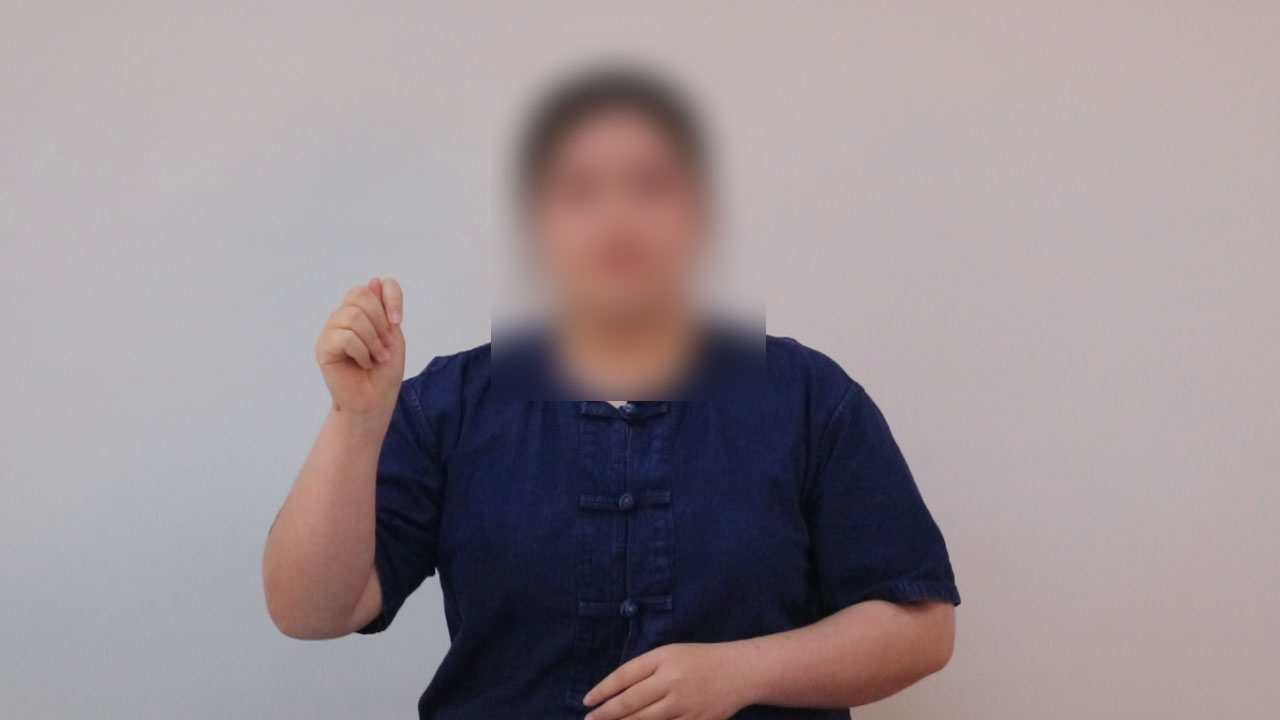tor: (296, 270, 451, 438)
